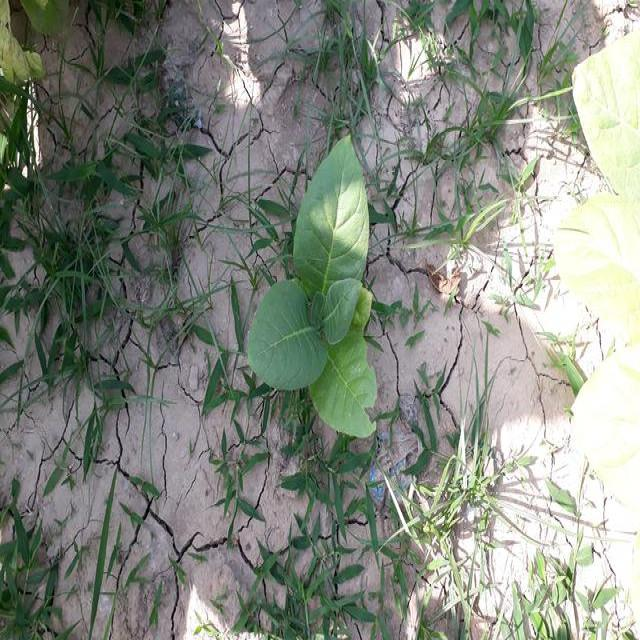crop: (246, 123, 394, 450)
